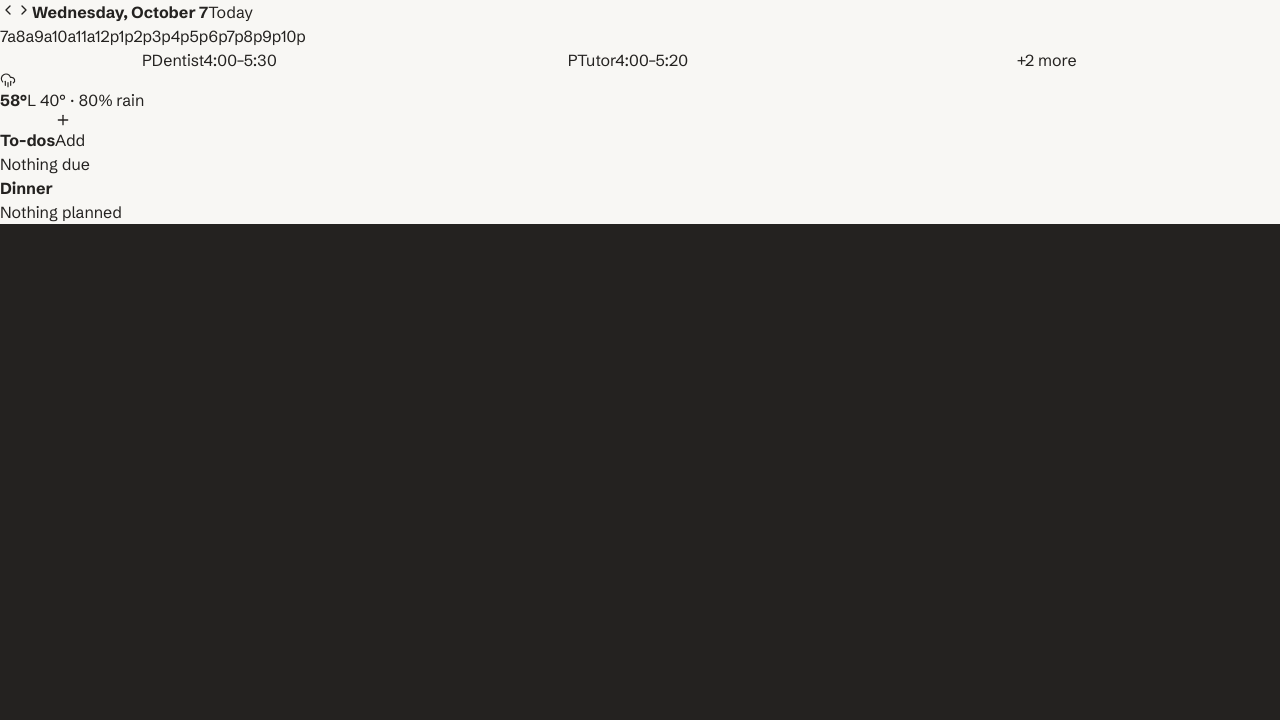
Test case: WallDay › folds a fourth clash into "+N more", and a tap lists everything at that time in full
Step 1. Click the button "+2 more" → (1047, 60), box [837,48,1256,72]
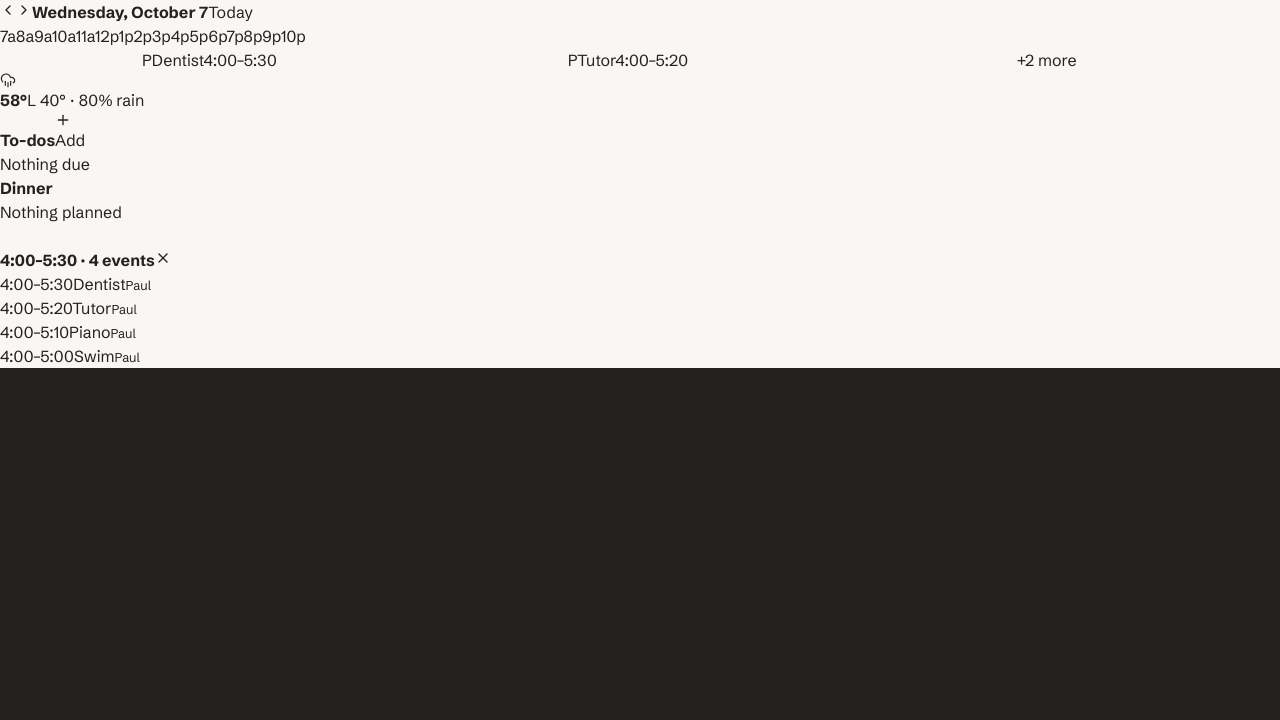
Check: the text "4:00–5:30 · 4 events" is shown, box [0,250,155,270]
Step 2. Click the button named "Close" → (163, 258), box [155,250,171,266]
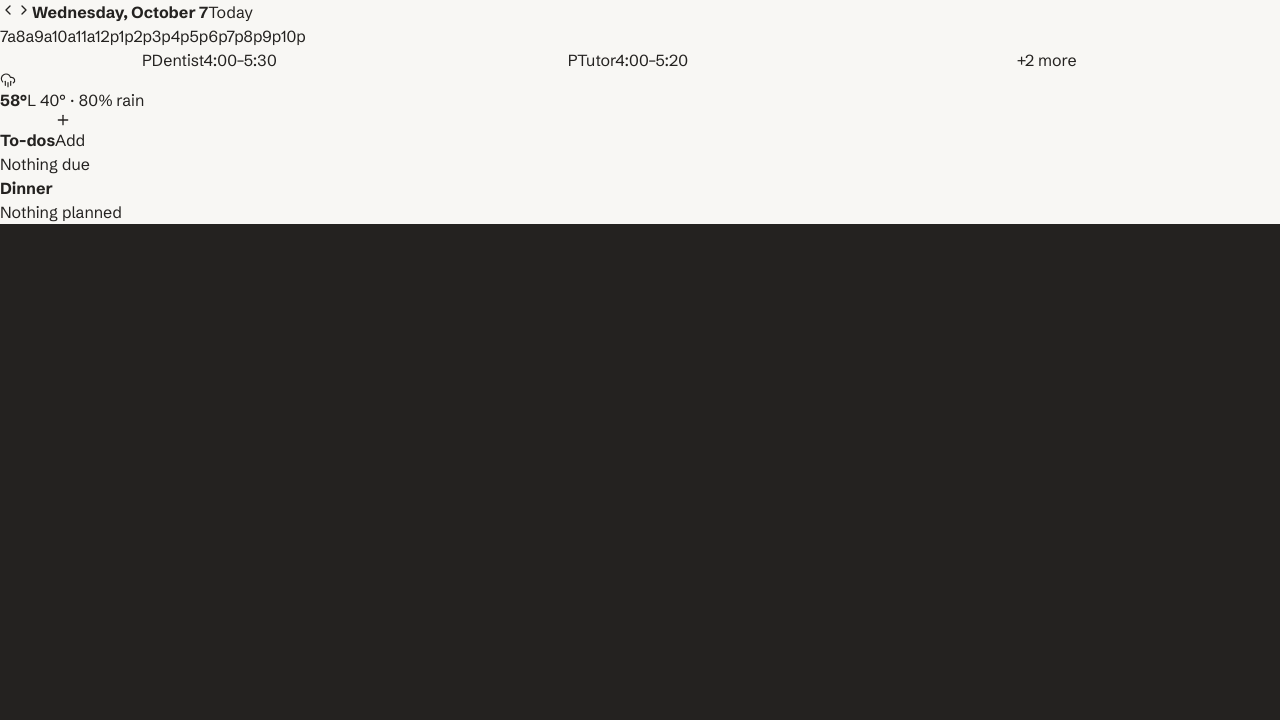
Check: the dialog is gone
Step 3. Click the button with aria-label "Dentist, Paul" → (209, 60), box [0,48,419,72]
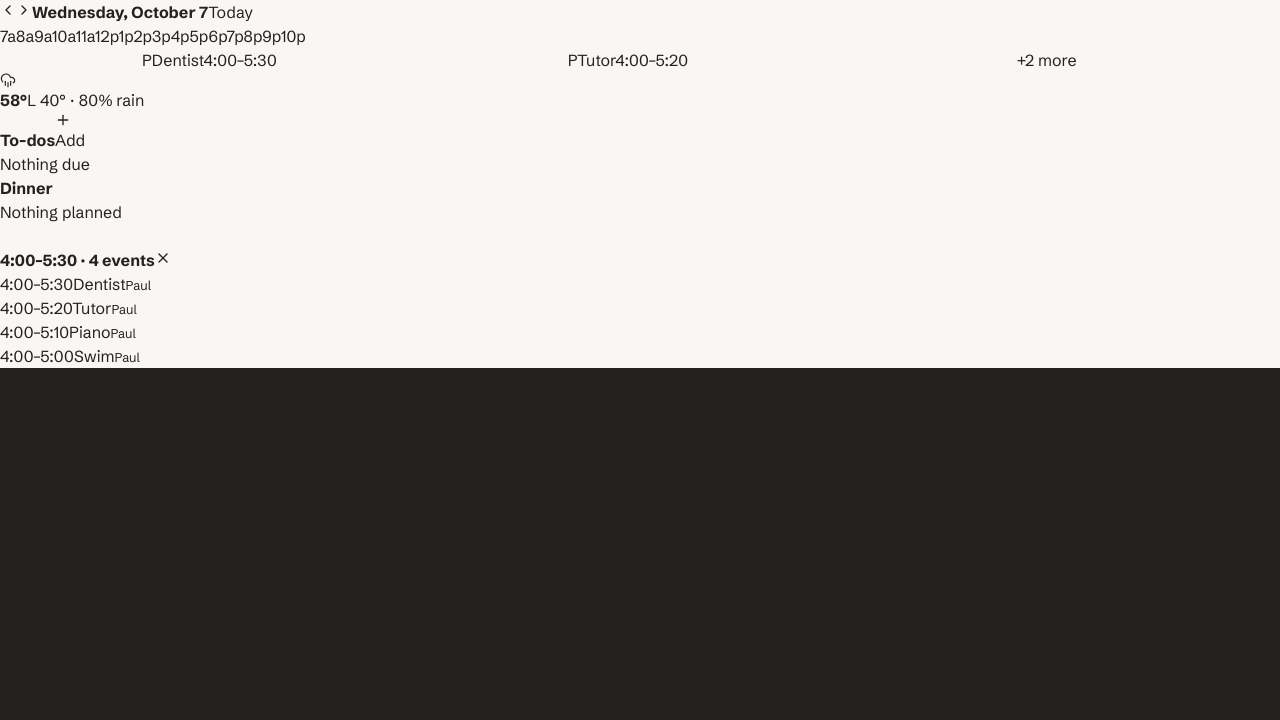
Check: the dialog is shown, box [0,250,171,366]
